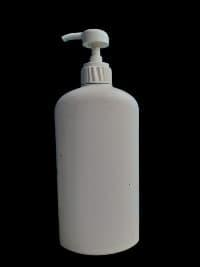Plastik: (55, 29, 139, 254)
